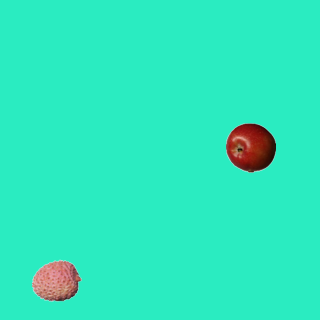Apple Braeburn: (225, 122, 275, 172)
Lychee: (31, 255, 81, 305)
